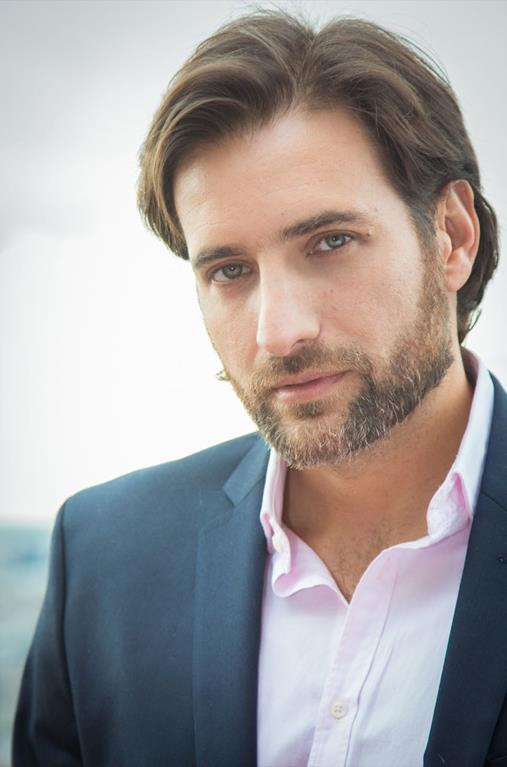bad: (141, 171, 409, 439)
